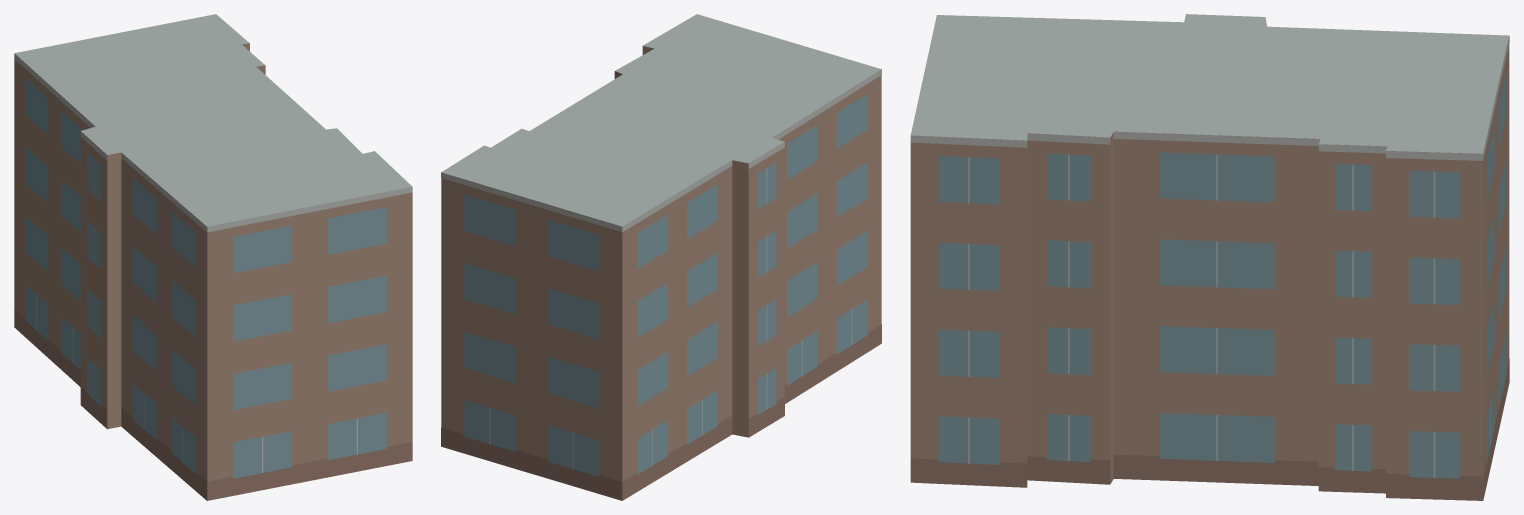
File: survey-upis-32761520.glb
The picture shows the model from 3 angles, left to right: view 1: azimuth 30°, elevation 25°; view 2: azimuth 150°, elevation 25°; view 3: azimuth 270°, elevation 25°; orthographic projection. The views are drawn at different scales.
Parts seen in each view (by area): view 1: survey-upis-32761520.tmp; view 2: survey-upis-32761520.tmp; view 3: survey-upis-32761520.tmp.
Part boxes in pixels (x1,y1,x2,y2): survey-upis-32761520.tmp: (14, 14, 412, 500); survey-upis-32761520.tmp: (441, 14, 881, 500); survey-upis-32761520.tmp: (910, 14, 1509, 500).
Size of the model in its own units: 10.2 by 11.8 by 18.46.
